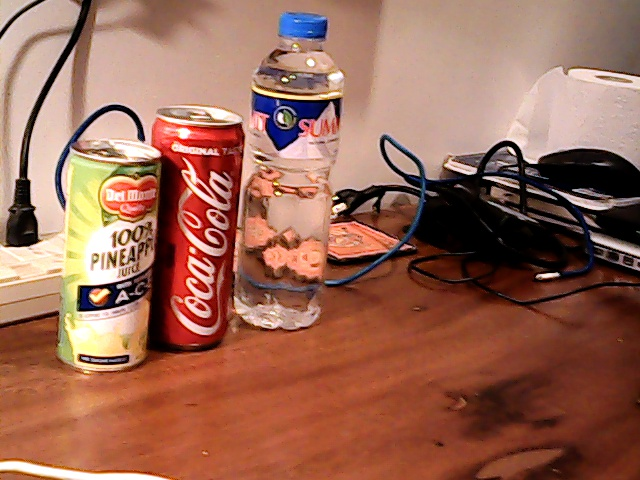Cola: (155, 104, 246, 357)
Pine Juice: (53, 140, 159, 378)
Summit Water: (236, 1, 356, 333)
